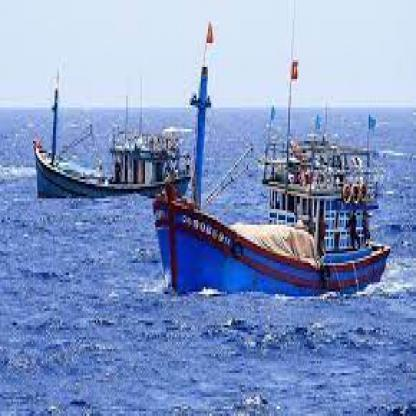Ship: (157, 140, 397, 324), (23, 63, 205, 209)
